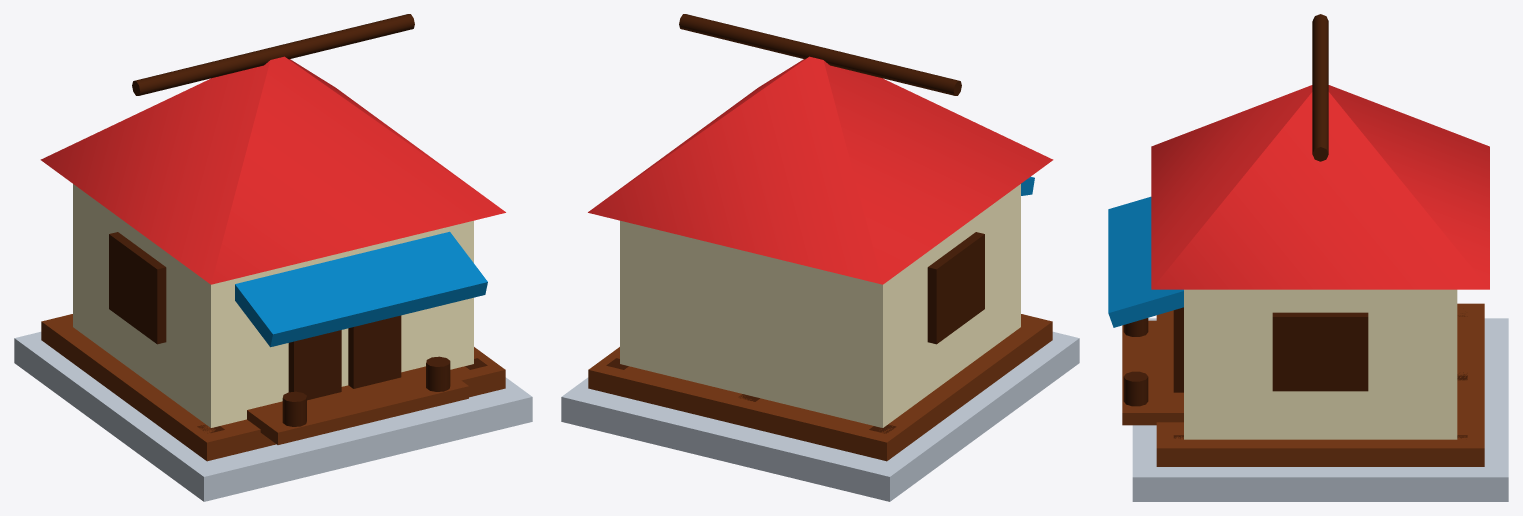
The model's file is bld_riverine_c1.glb.
3 renders of one model, left to right at view 1: azimuth 30°, elevation 25°; view 2: azimuth 150°, elevation 25°; view 3: azimuth 270°, elevation 25°, orthographic.
Visible parts, largest first — view 1: Bld_Riverine_C1_StiltHouse; view 2: Bld_Riverine_C1_StiltHouse; view 3: Bld_Riverine_C1_StiltHouse.
Part boxes in pixels (left/top/right/bottom): Bld_Riverine_C1_StiltHouse: left=14, top=14, right=532, bottom=501; Bld_Riverine_C1_StiltHouse: left=561, top=14, right=1079, bottom=501; Bld_Riverine_C1_StiltHouse: left=1108, top=14, right=1508, bottom=501.
Bounding box in the file's own units: 0.55 × 0.552 × 0.5854.
